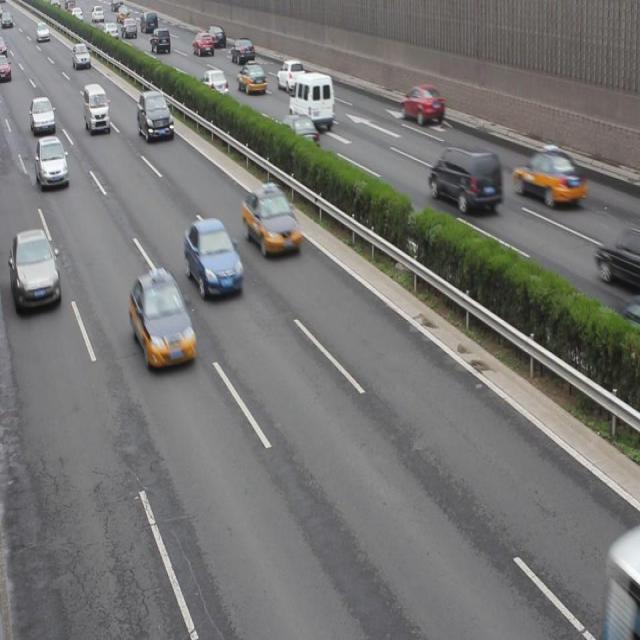car: (131, 272, 198, 374), (184, 220, 246, 301), (514, 144, 588, 209), (9, 232, 62, 314), (243, 185, 302, 258), (136, 89, 175, 143), (401, 85, 445, 128), (35, 136, 69, 188), (277, 114, 321, 150), (237, 62, 266, 94), (30, 96, 55, 133), (276, 58, 304, 90), (200, 70, 227, 96), (191, 31, 214, 58), (230, 39, 253, 64), (150, 27, 171, 54), (72, 41, 90, 67), (206, 25, 225, 47), (122, 17, 137, 40), (103, 22, 118, 38)
truck: (429, 146, 503, 213), (290, 72, 335, 126), (83, 82, 110, 134), (141, 12, 157, 32)
